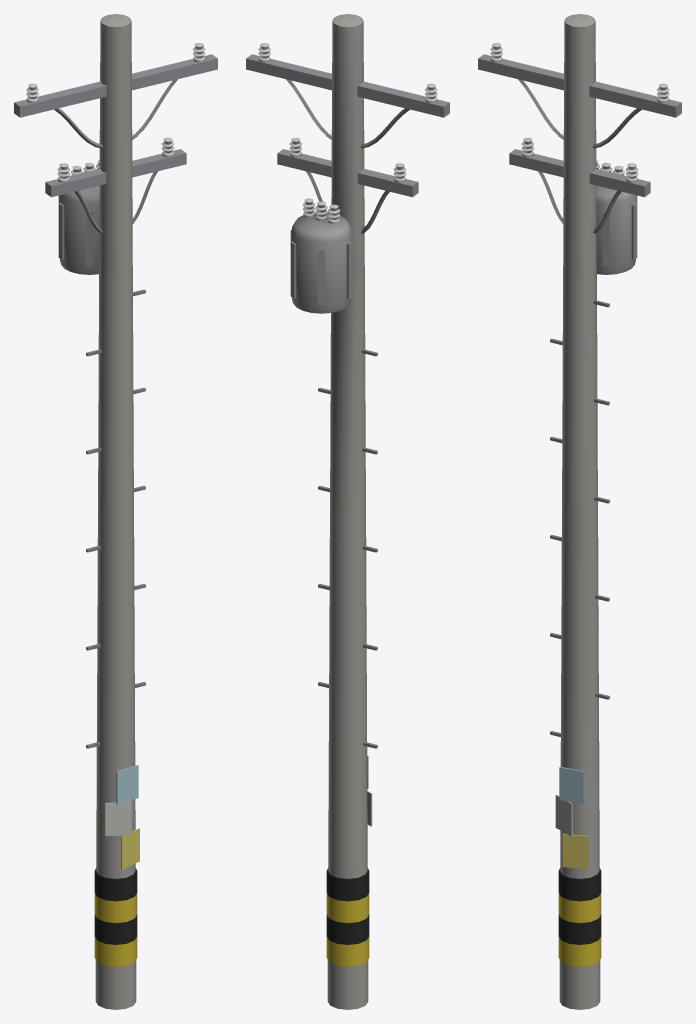
File: st_pole.glb
3 renders of one model, left to right at view 1: azimuth 30°, elevation 25°; view 2: azimuth 150°, elevation 25°; view 3: azimuth 330°, elevation 25°, orthographic.
Visible parts, largest first — view 1: body; view 2: body; view 3: body.
Boxes of the visible parts, x1,y1,x2,y2 form: body: (14,14,217,1009); body: (246,14,449,1009); body: (478,14,681,1009).
Bounding box in the file's own units: 1.9 × 9.02 × 0.8978.
